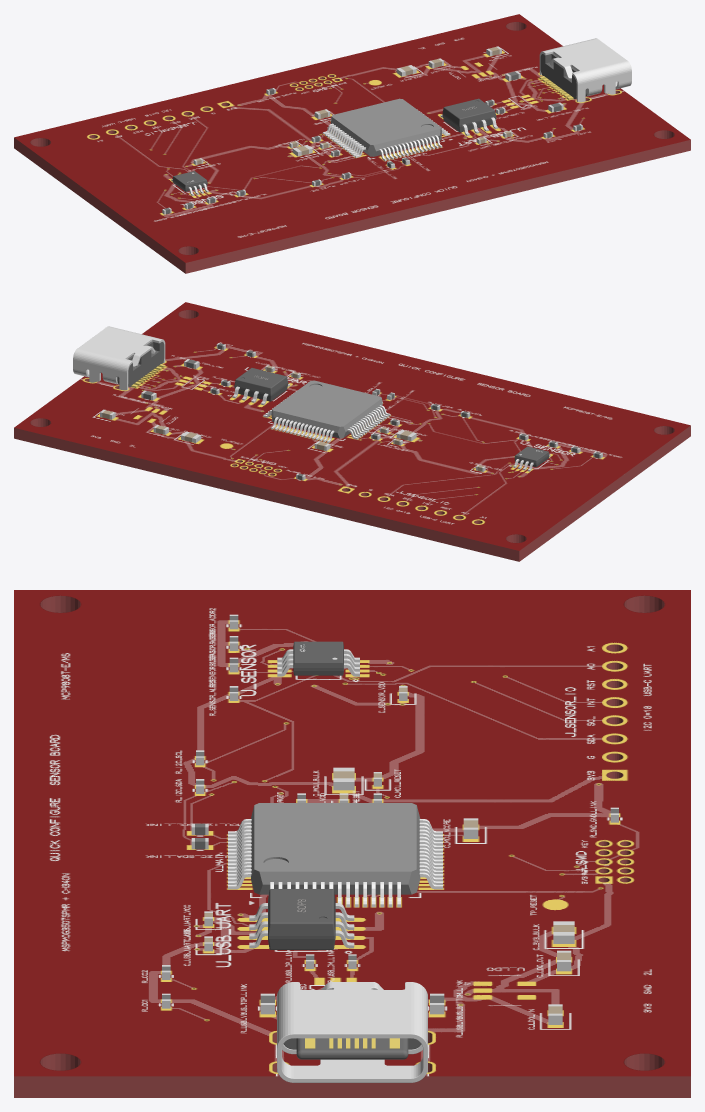
3 renders of one model, top to bottom at view 1: azimuth 30°, elevation 25°; view 2: azimuth 150°, elevation 25°; view 3: azimuth 270°, elevation 25°, orthographic. The views are drawn at different scales.
Parts seen in each view (by area): view 1: Box0, U_MAIN, J_USB, U_USB_UART, U_SENSOR; view 2: Box0, U_MAIN, J_USB, U_USB_UART, U_SENSOR; view 3: Box0, U_MAIN, J_USB, U_USB_UART, U_SENSOR.
Boxes of the visible parts, x1,y1,x2,y2 form: Box0: (14, 14, 690, 273); U_MAIN: (322, 98, 450, 161); J_USB: (539, 38, 631, 102); U_USB_UART: (440, 98, 498, 135); U_SENSOR: (171, 171, 208, 195); Box0: (14, 302, 690, 561); U_MAIN: (263, 380, 390, 442); J_USB: (73, 326, 165, 390); U_USB_UART: (232, 368, 290, 404); U_SENSOR: (513, 446, 550, 471); Box0: (14, 590, 690, 1097); U_MAIN: (228, 803, 442, 907); J_USB: (277, 982, 427, 1082); U_USB_UART: (249, 889, 354, 949); U_SENSOR: (277, 641, 359, 676).
Size of the model in its own units: 69.04 by 4.65 by 40.
16 materials, 2 textured.
